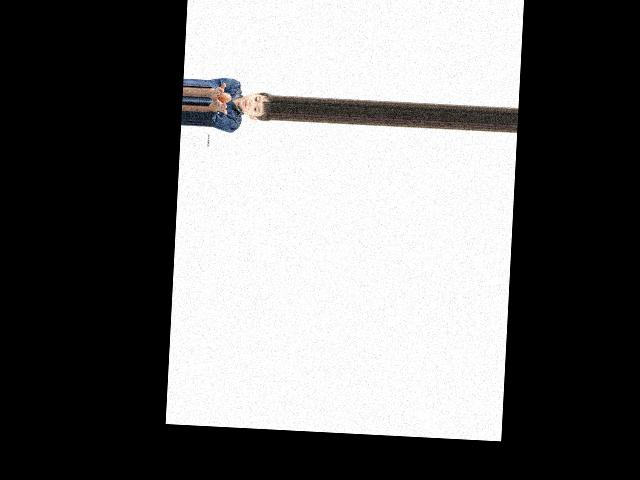egg: (217, 92, 231, 103)
